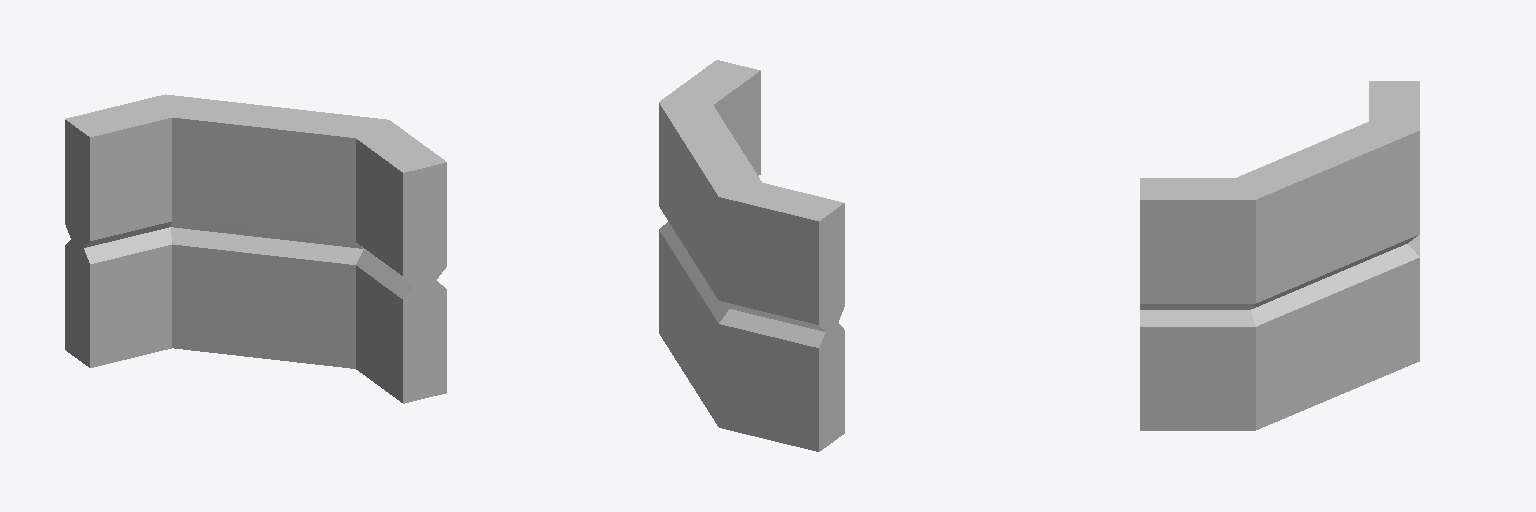
Rendered from 2_wall_etched_corner.obj.
3 views of the same model, side by side, from view 1: azimuth 30°, elevation 25°; view 2: azimuth 150°, elevation 25°; view 3: azimuth 270°, elevation 25° (orthographic).
Parts seen in each view (by area): view 1: object1; view 2: object1; view 3: object1.
Boxes of the visible parts, x1,y1,x2,y2 form: object1: [65, 94, 446, 403]; object1: [659, 60, 844, 451]; object1: [1140, 81, 1419, 430].
Size of the model in its own units: 1.1 by 1 by 1.1.